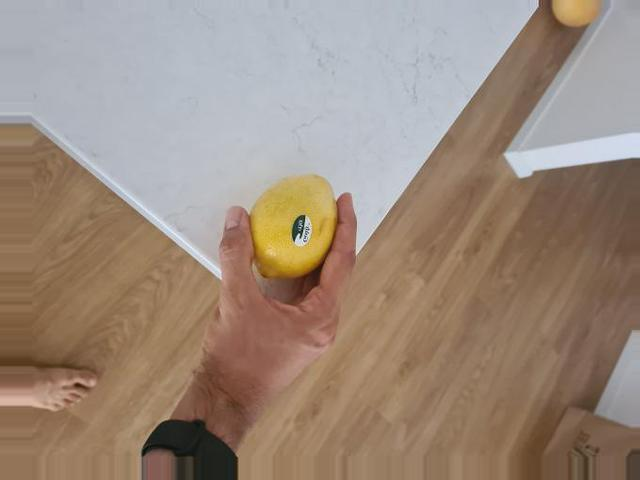lemon: (247, 172, 341, 283)
